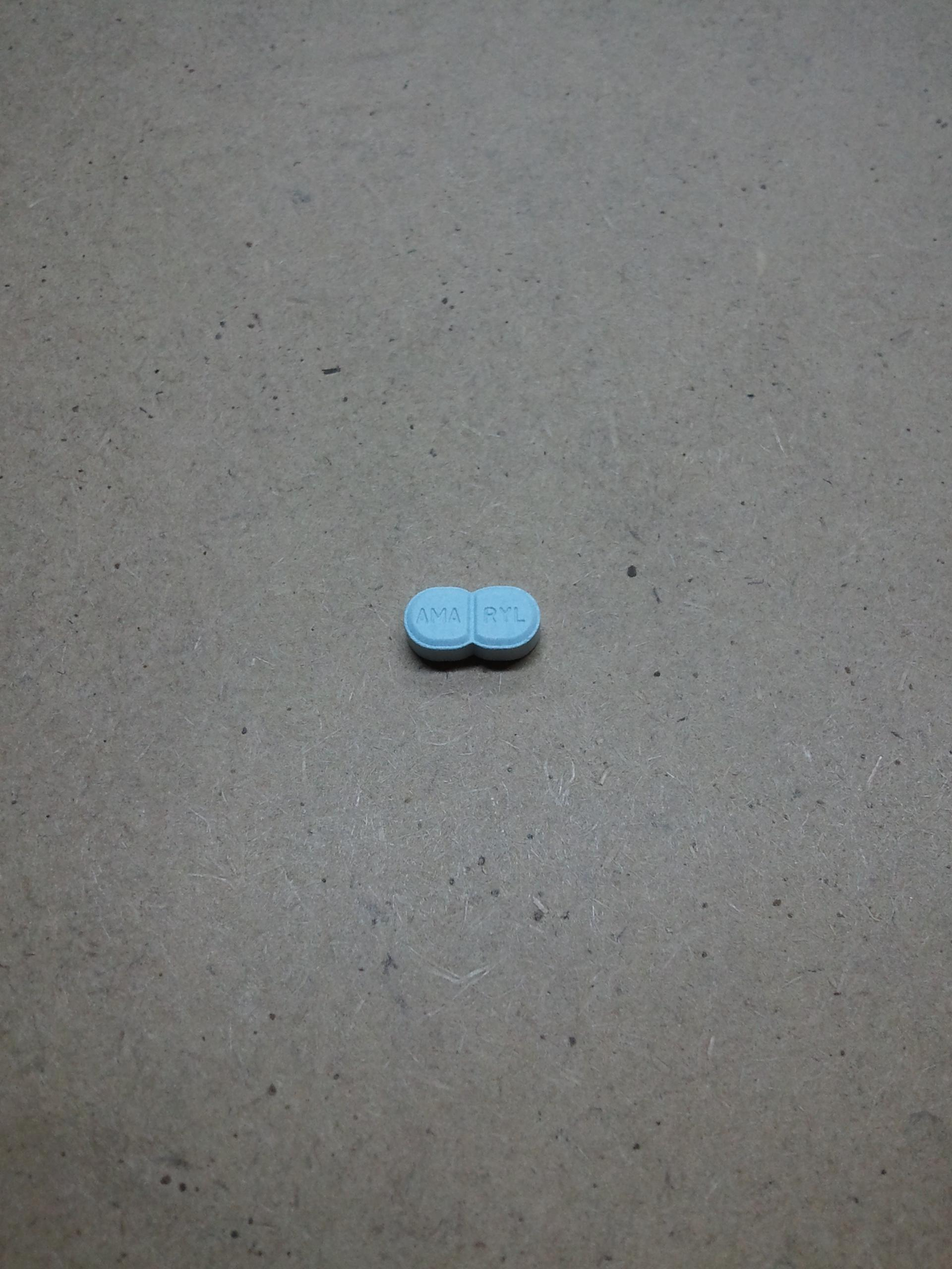Pill: (389, 577, 559, 679)
